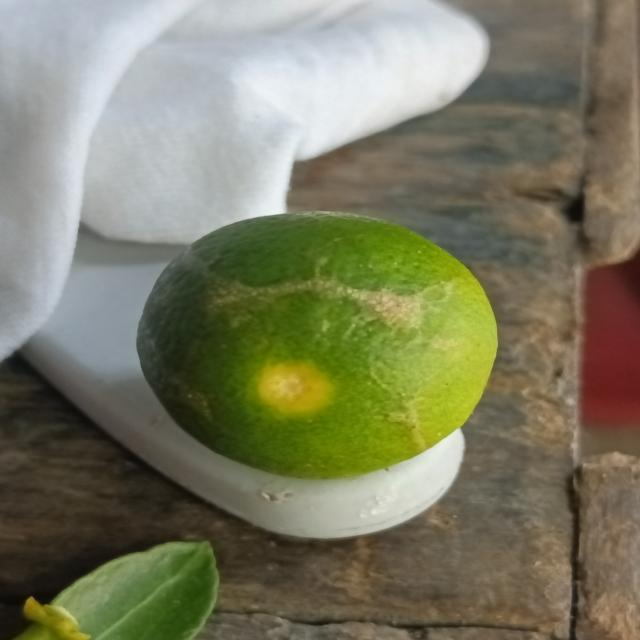thrips: (142, 202, 502, 479)
